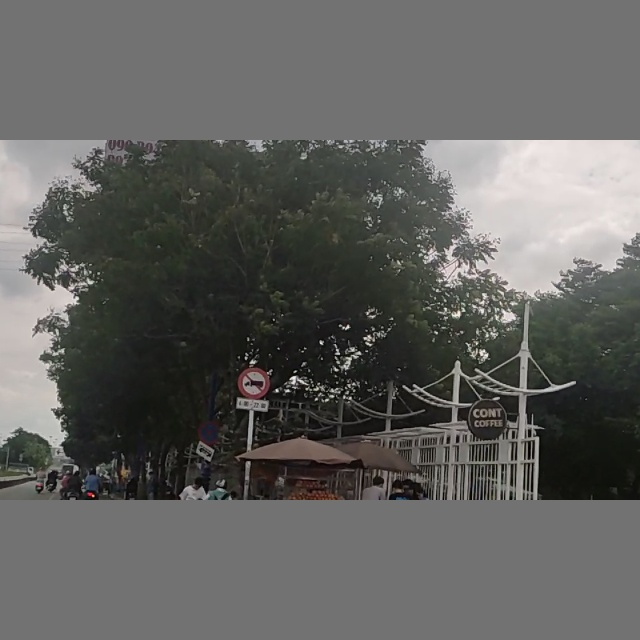B.8a: (237, 369, 267, 410)
